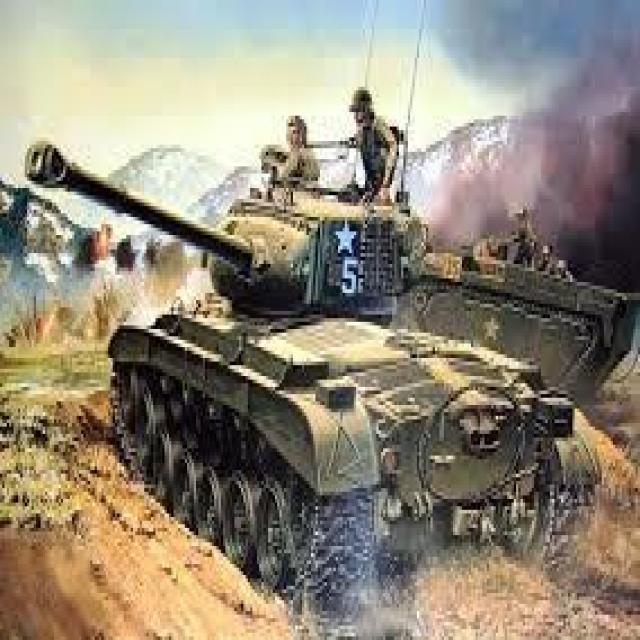MIL_MBT: (19, 172, 601, 620)
